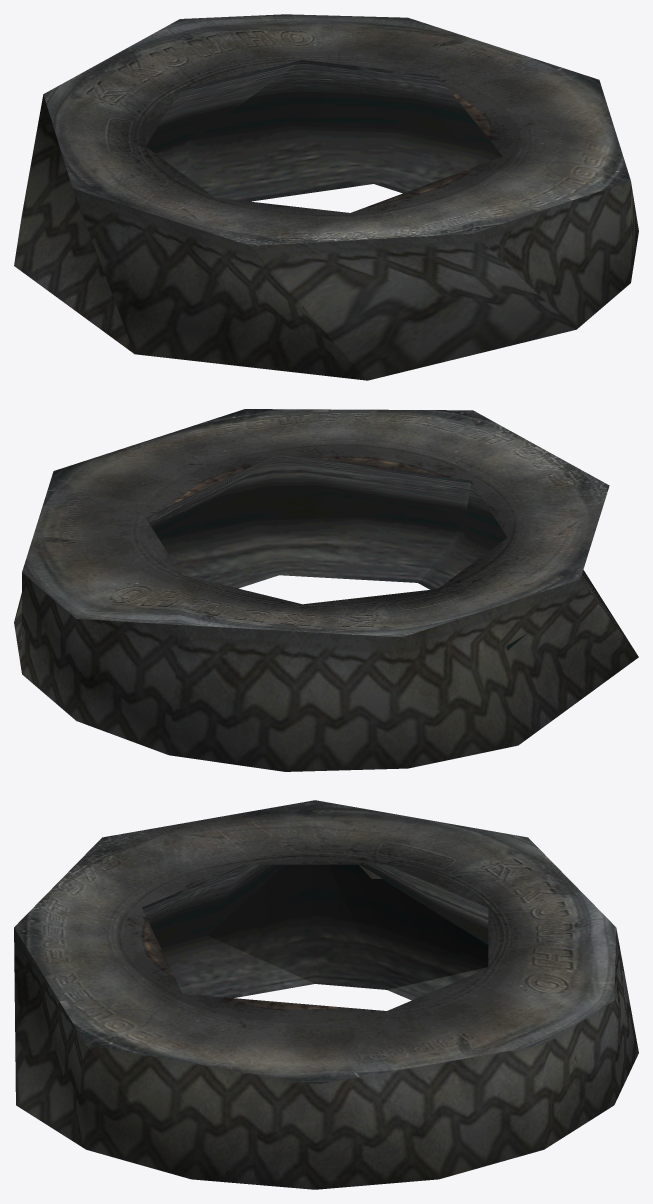
Rendered from trash weel.FBX.
3 renders of one model, top to bottom at view 1: azimuth 30°, elevation 25°; view 2: azimuth 150°, elevation 25°; view 3: azimuth 270°, elevation 25°, orthographic. The views are drawn at different scales.
Visible parts, largest first — view 1: wheel; view 2: wheel; view 3: wheel.
Boxes of the visible parts, <box> form: wheel: <box>14,14,638,380</box>; wheel: <box>14,409,638,771</box>; wheel: <box>14,800,638,1189</box>.
Size of the model in its own units: 22.78 by 5.46 by 22.79.
